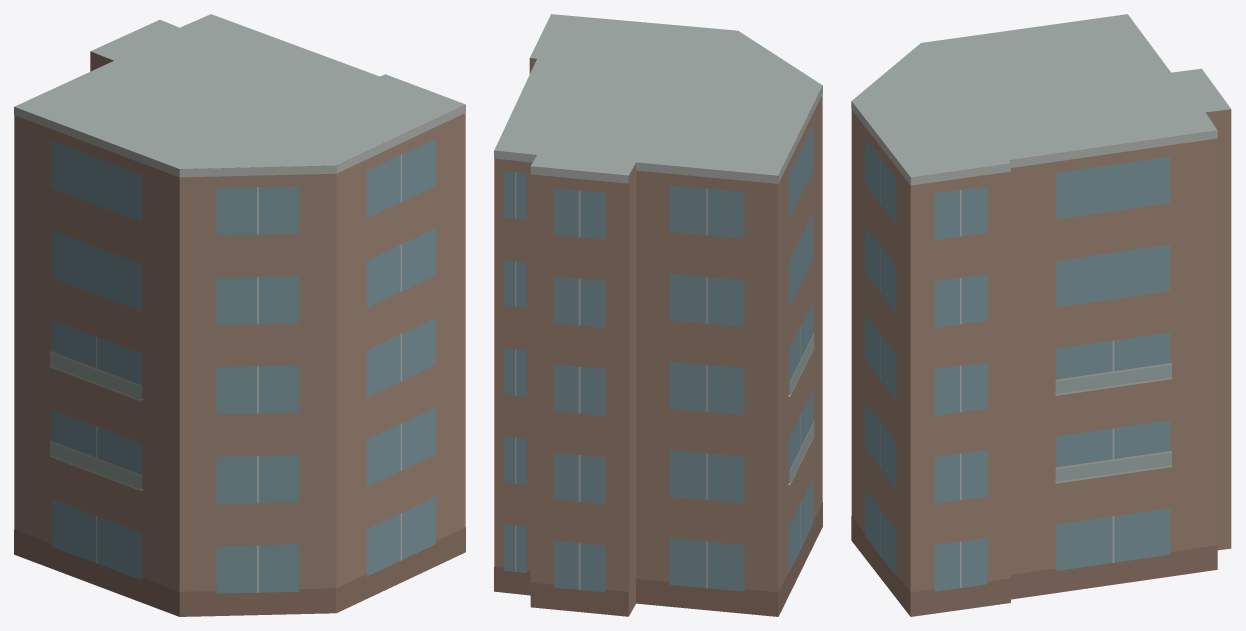
Rendered from survey-upis-32624565.glb.
3 renders of one model, left to right at view 1: azimuth 30°, elevation 25°; view 2: azimuth 150°, elevation 25°; view 3: azimuth 270°, elevation 25°, orthographic.
Visible parts, largest first — view 1: survey-upis-32624565.tmp; view 2: survey-upis-32624565.tmp; view 3: survey-upis-32624565.tmp.
Boxes of the visible parts, <box> form: survey-upis-32624565.tmp: <box>14,14,465,616</box>; survey-upis-32624565.tmp: <box>494,14,822,616</box>; survey-upis-32624565.tmp: <box>851,14,1231,616</box>.
Bounding box in the file's own units: 10.5 × 13.15 × 10.32.
